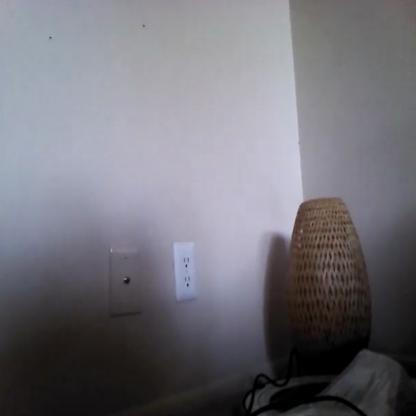OUTLET: (174, 240, 197, 299)
